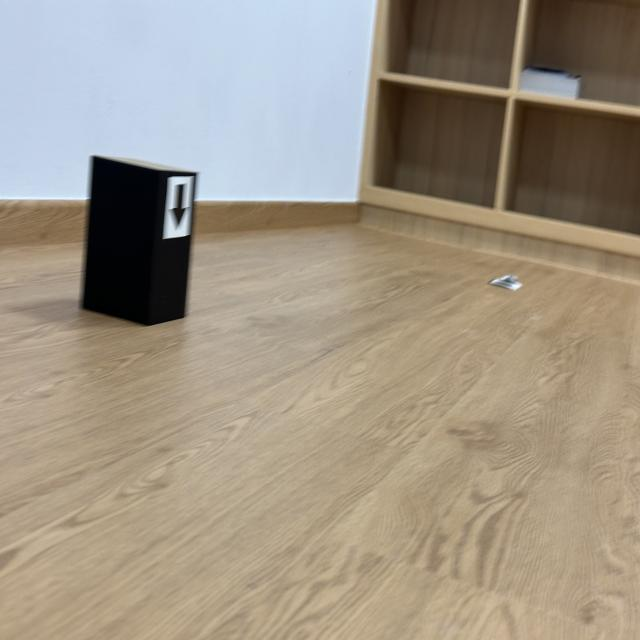DOWN: (169, 184, 187, 228)
